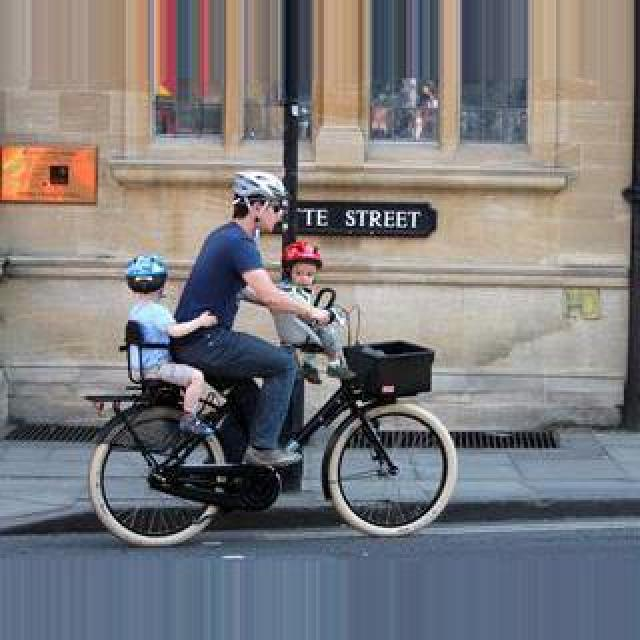MC-Bike: (170, 174, 336, 478), (124, 250, 228, 440), (278, 238, 356, 380)
Person: (86, 302, 458, 554)
